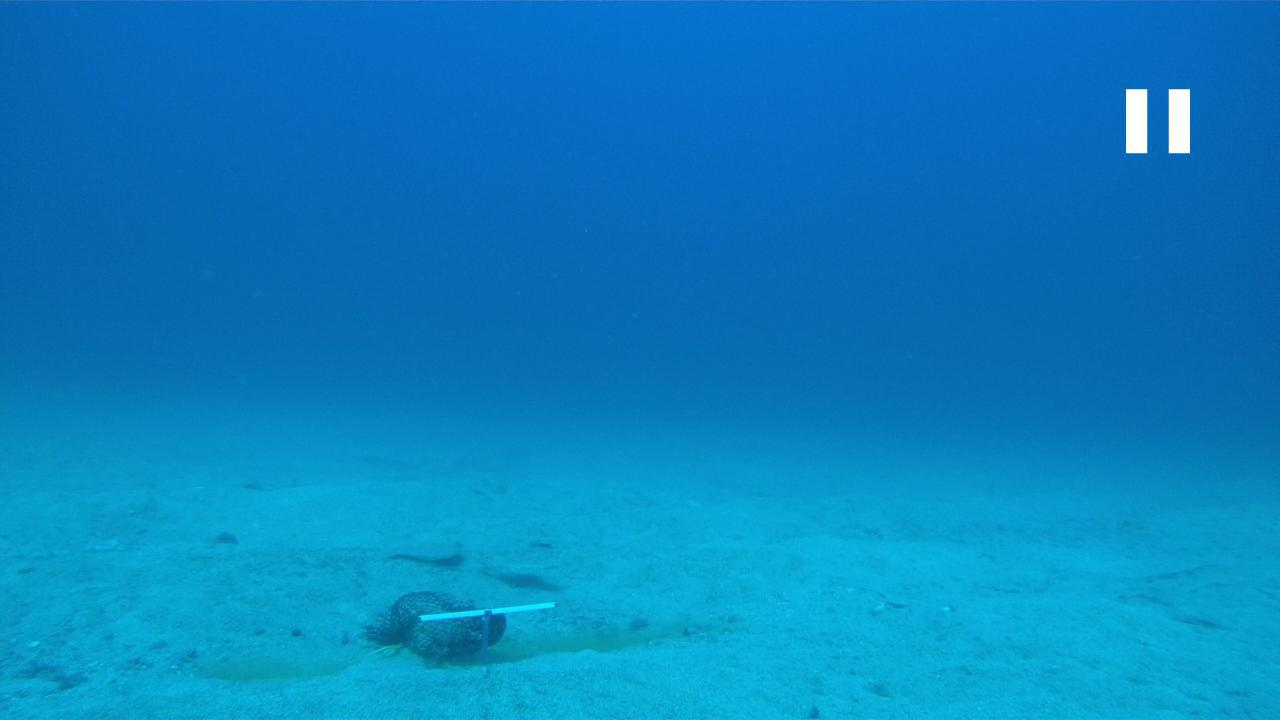bothus: (472, 555, 571, 589), (373, 540, 467, 567)
